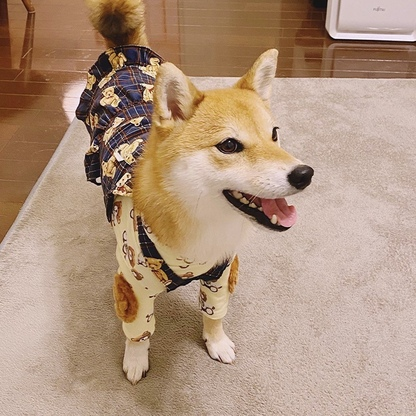shiba: (76, 1, 316, 386)
